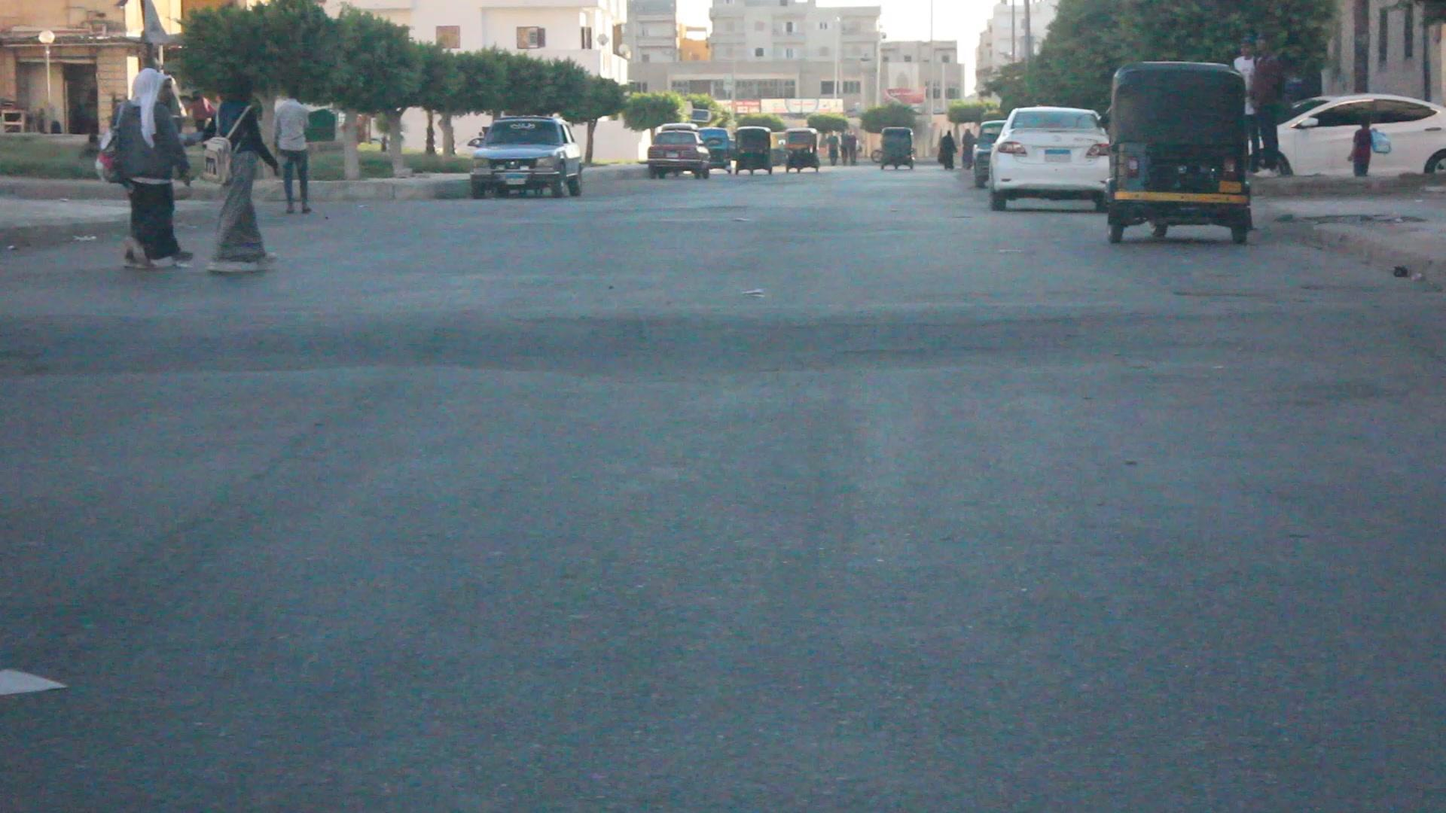Bump: (0, 294, 1446, 382)
